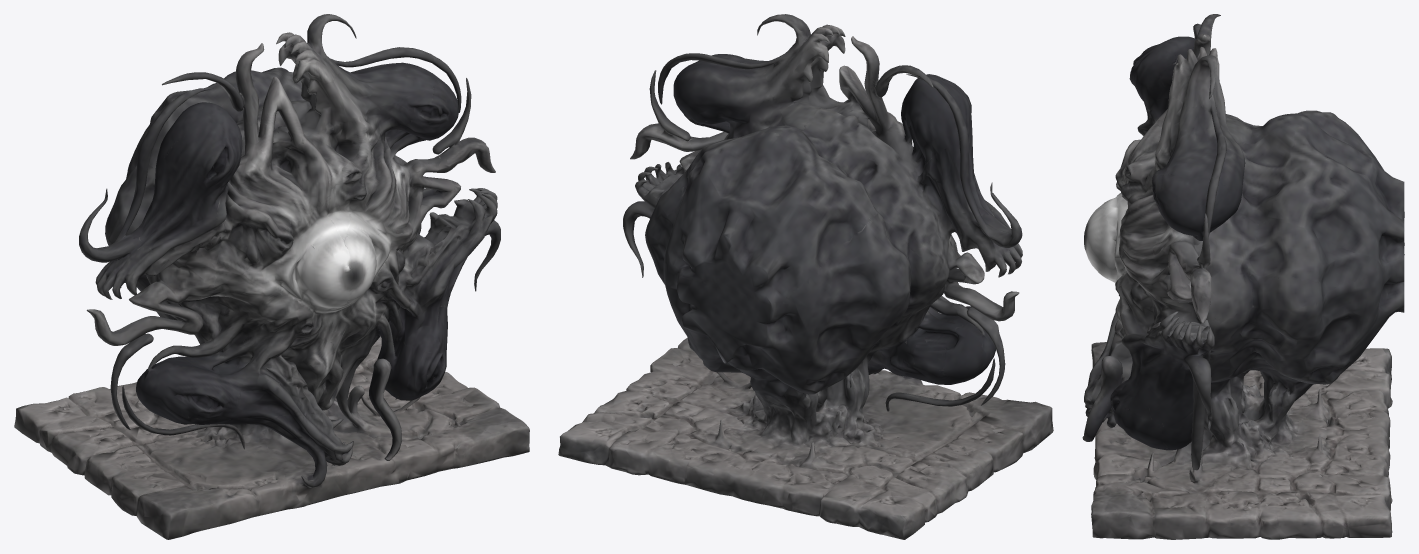
Rendered from espectro.glb.
3 views of the same model, side by side, from view 1: azimuth 30°, elevation 25°; view 2: azimuth 150°, elevation 25°; view 3: azimuth 270°, elevation 25° (orthographic). The views are drawn at different scales.
Size of the model in its own units: 1.9 by 1.86 by 1.31.
Materials: 1 (1 with a texture image).
